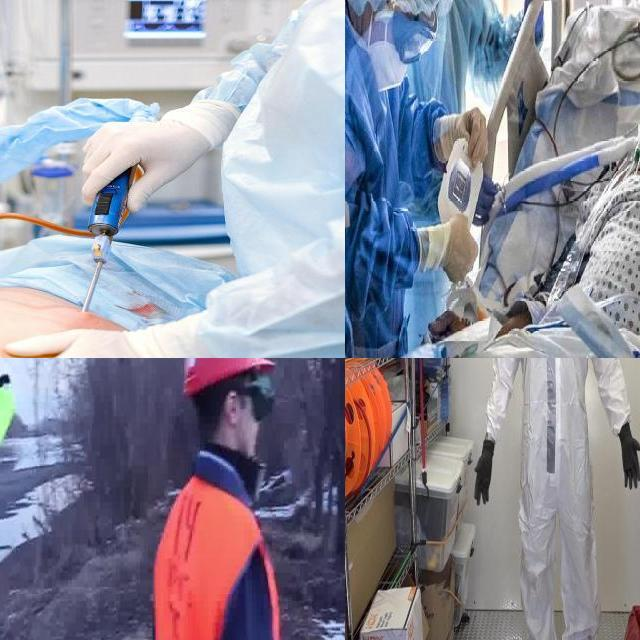GLASS: (227, 373, 285, 424)
GLOVE: (76, 118, 216, 210), (0, 328, 183, 358), (474, 440, 496, 510), (620, 428, 640, 493)
HELMET: (181, 358, 278, 401)
MASK: (364, 38, 410, 96)
VEST: (157, 466, 290, 640)
